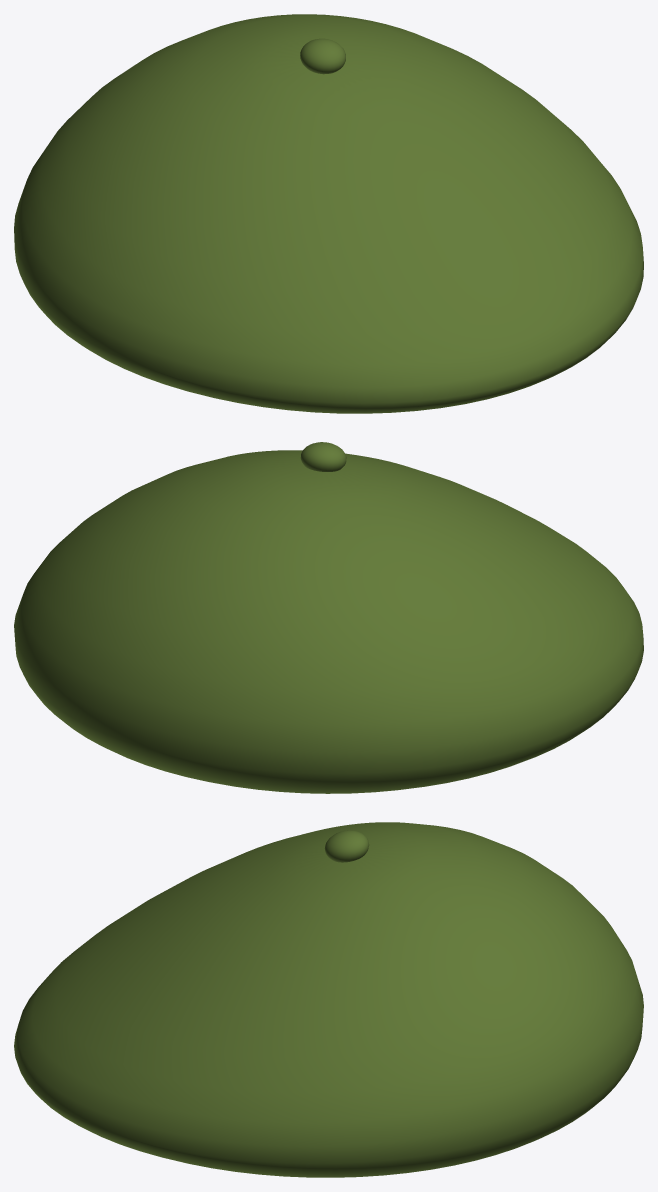
Rendered from beret.glb.
3 renders of one model, top to bottom at view 1: azimuth 30°, elevation 25°; view 2: azimuth 150°, elevation 25°; view 3: azimuth 270°, elevation 25°, orthographic. The views are drawn at different scales.
Visible parts, largest first — view 1: Sphere003, Sphere004; view 2: Sphere003, Sphere004; view 3: Sphere003, Sphere004.
Boxes of the visible parts, left/top/right/bottom form: Sphere003: left=14, top=14, right=643, bottom=413; Sphere004: left=300, top=38, right=345, bottom=74; Sphere003: left=14, top=450, right=643, bottom=793; Sphere004: left=300, top=442, right=346, bottom=471; Sphere003: left=14, top=822, right=643, bottom=1177; Sphere004: left=324, top=830, right=369, bottom=862.
Size of the model in its own units: 1.99 by 0.8718 by 2.08.
